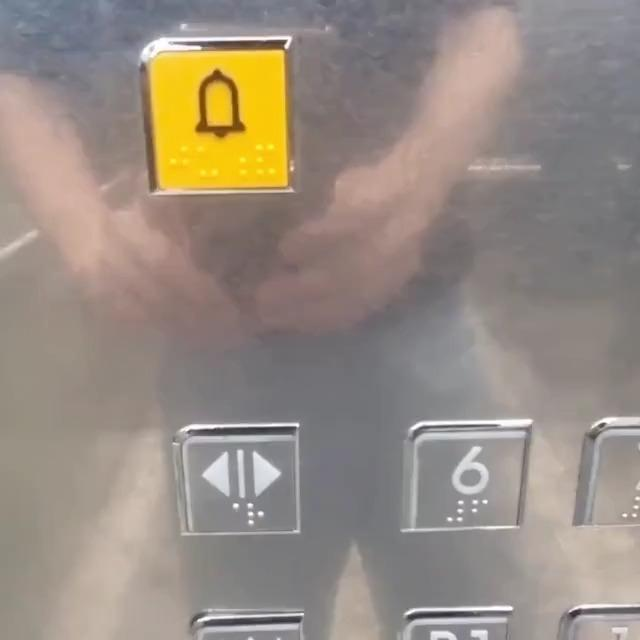button: (145, 42, 298, 194), (406, 419, 530, 537), (168, 433, 295, 541)
